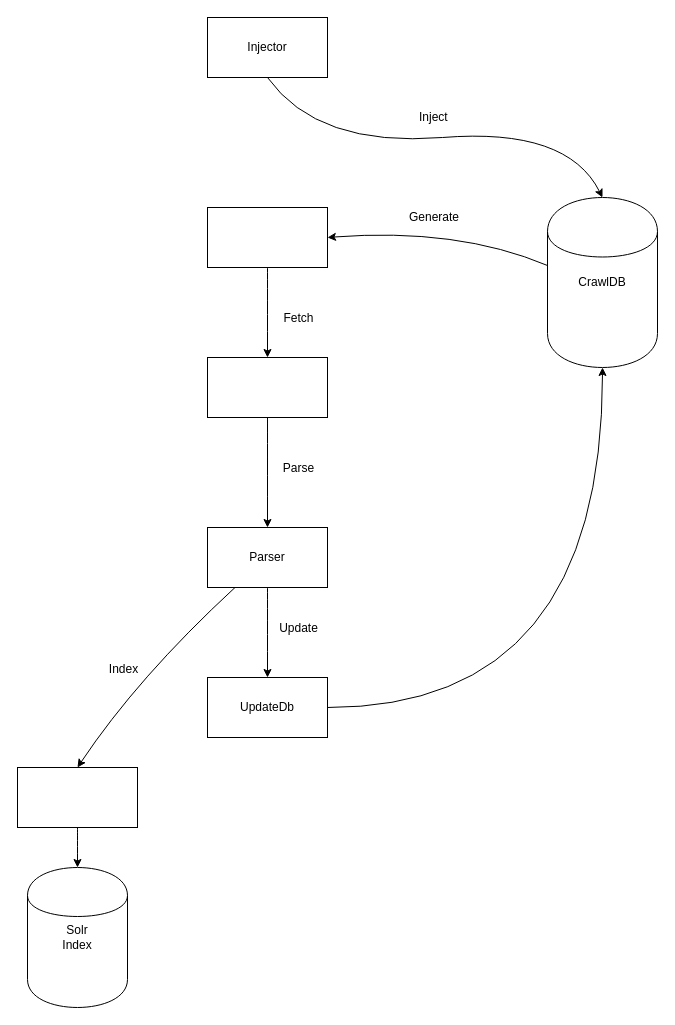
This 675x1025 diagram has some shape labels left out. The shapes that lost their labels are listed below. From the top down, each one's centre as x and y in pixels, then its label:
At pixel 267 237: "Generator".
At pixel 267 387: "Fetcher".
At pixel 77 797: "Indexer".
